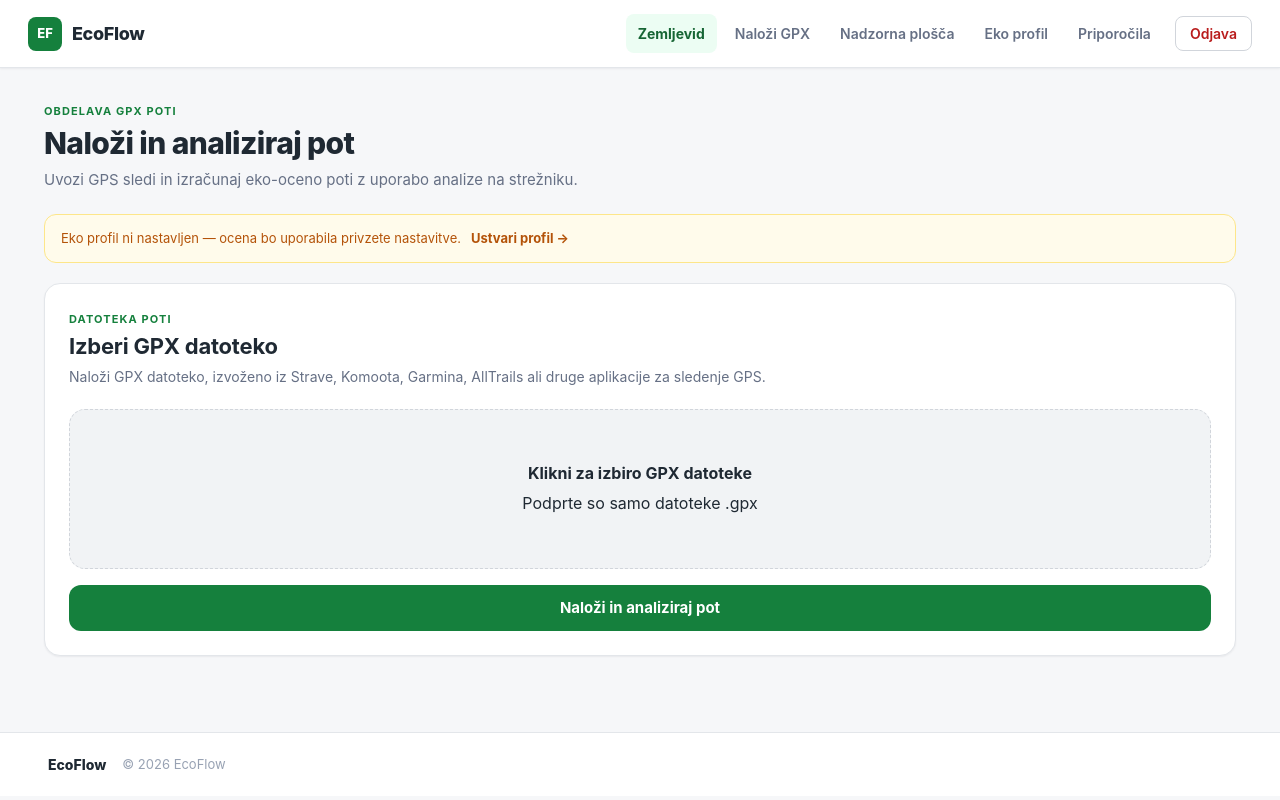
Test: GpxUploadPage › shows error when upload button clicked without file
The width and height of the screenshot is (1280, 800).
Click the button "Naloži in analiziraj pot": [640, 608] box left=69, top=585, right=1211, bottom=631
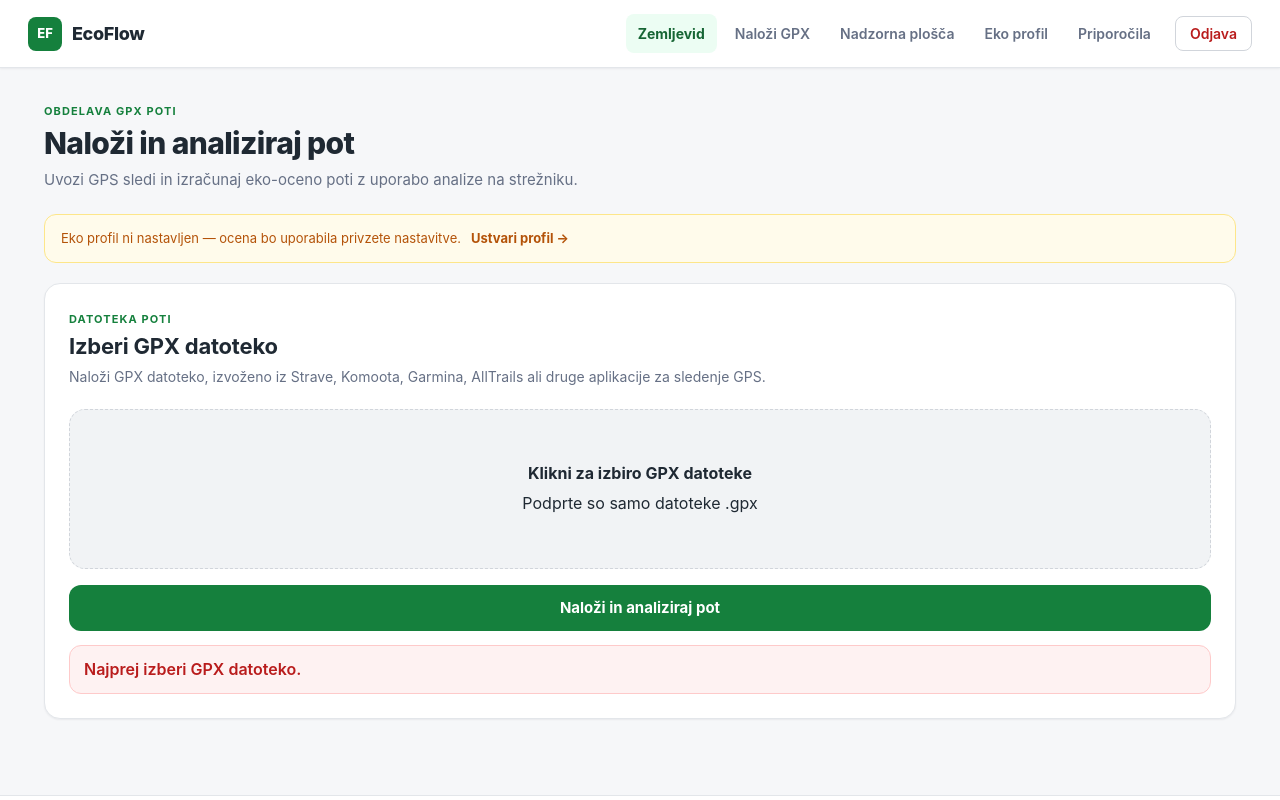
Expected: the text "Najprej izberi GPX datoteko." is shown, left=69, top=645, right=1211, bottom=694
